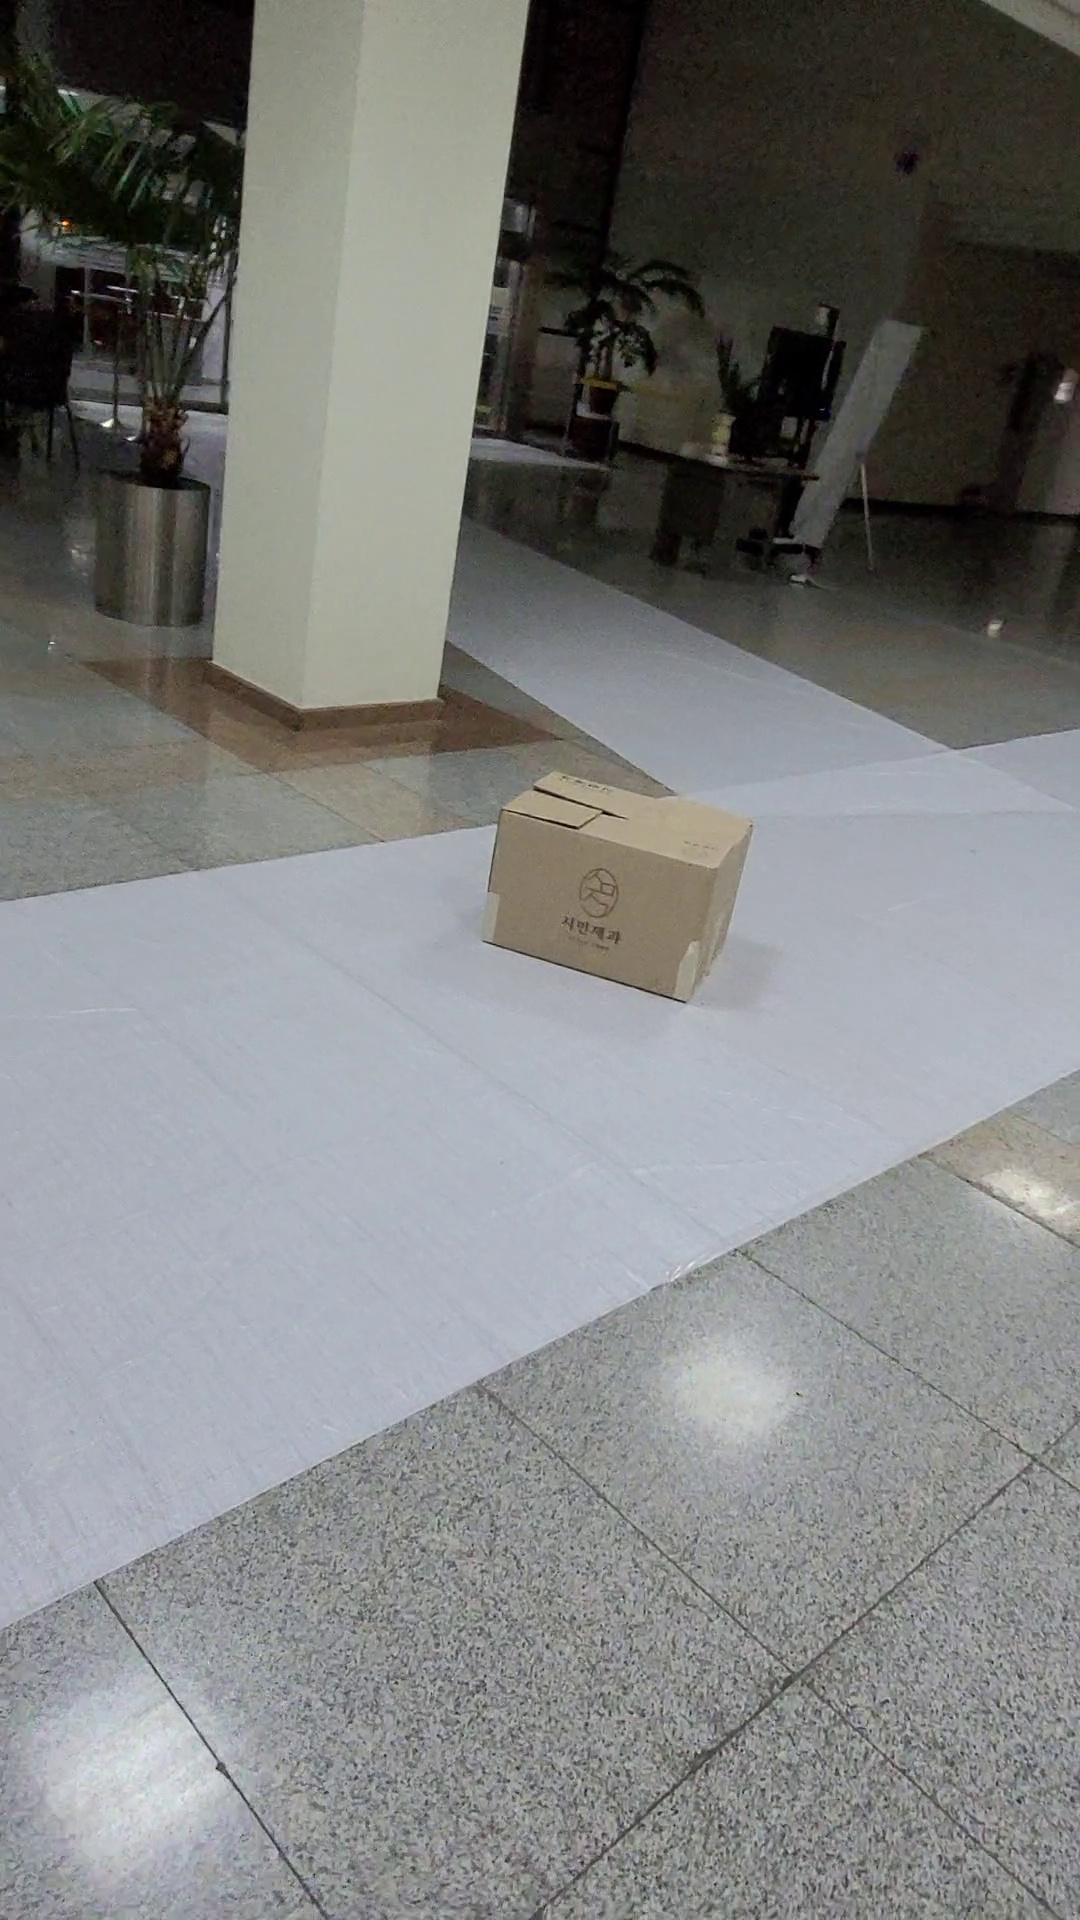Box: (454, 758, 774, 1021)
